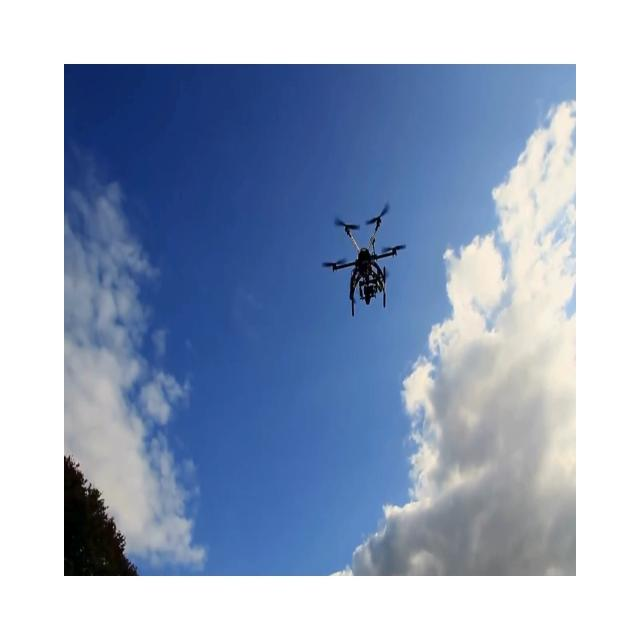drone: (321, 201, 406, 317)
